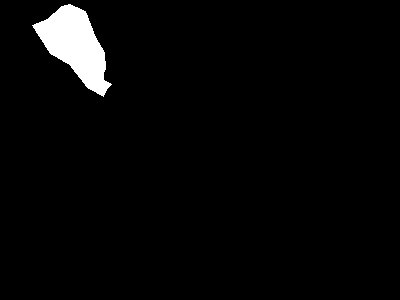Fire: (32, 14, 110, 99)
